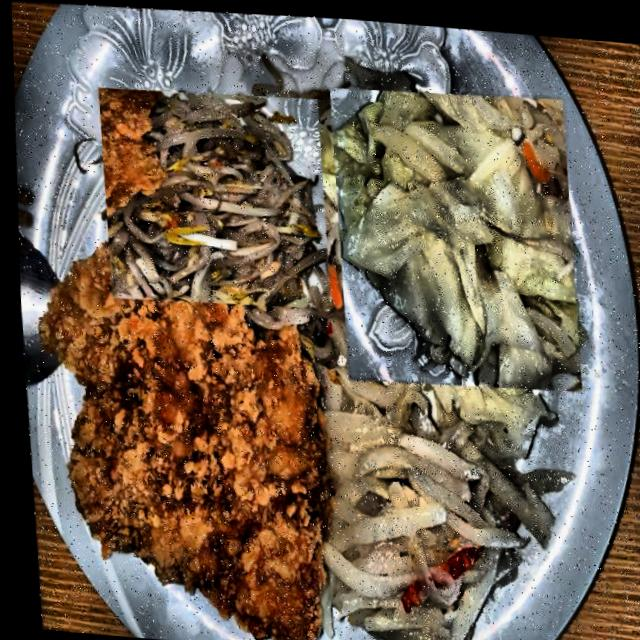Food: (34, 237, 350, 640), (317, 75, 587, 394), (90, 75, 332, 314)
